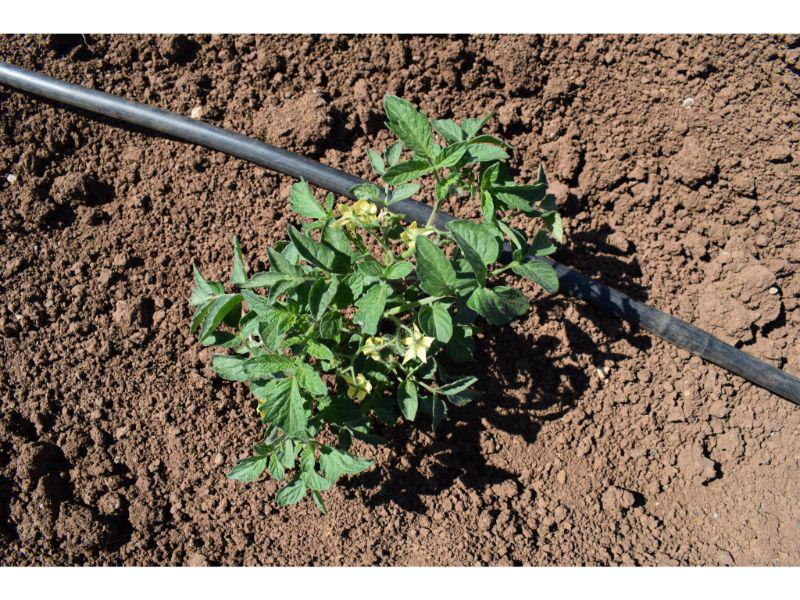tomato: (188, 92, 569, 508)
